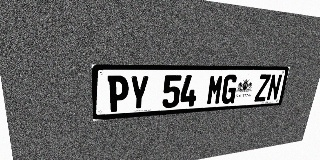4: (179, 75, 199, 107)
5: (162, 75, 182, 108)
G: (220, 75, 239, 104)
M: (206, 75, 224, 105)
N: (266, 74, 283, 101)
P: (107, 75, 129, 112)
Y: (129, 75, 149, 111)
Z: (254, 74, 271, 102)
